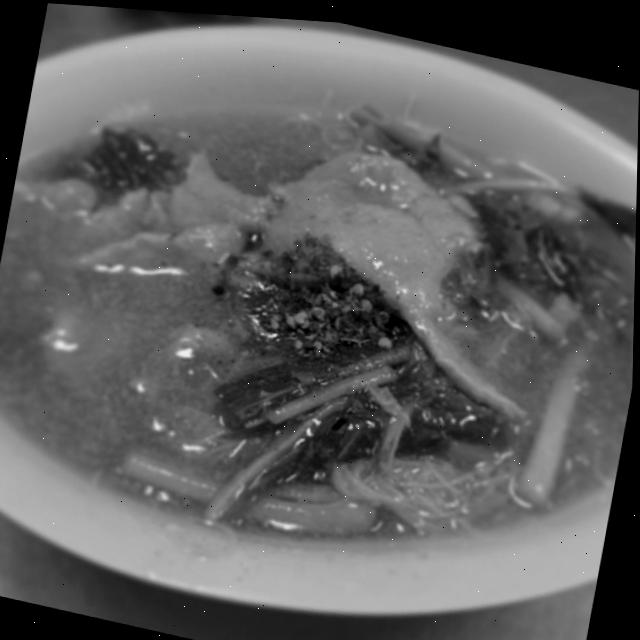面条主食: (0, 34, 639, 569)
